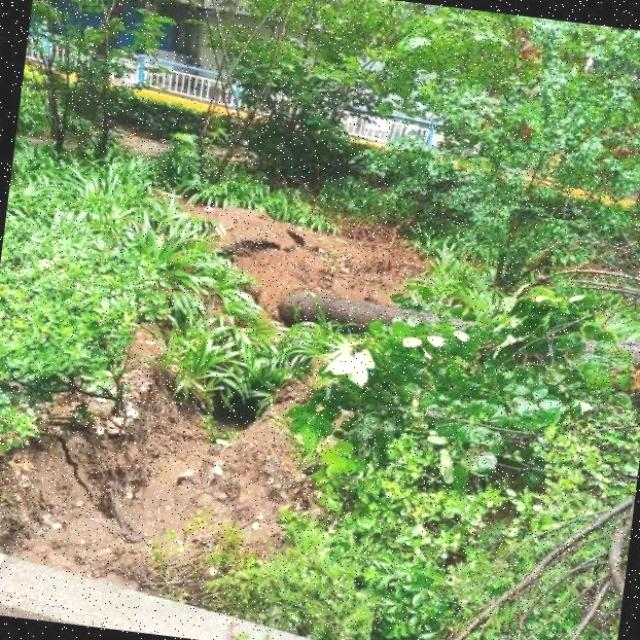fallen_object: (274, 284, 640, 377)
